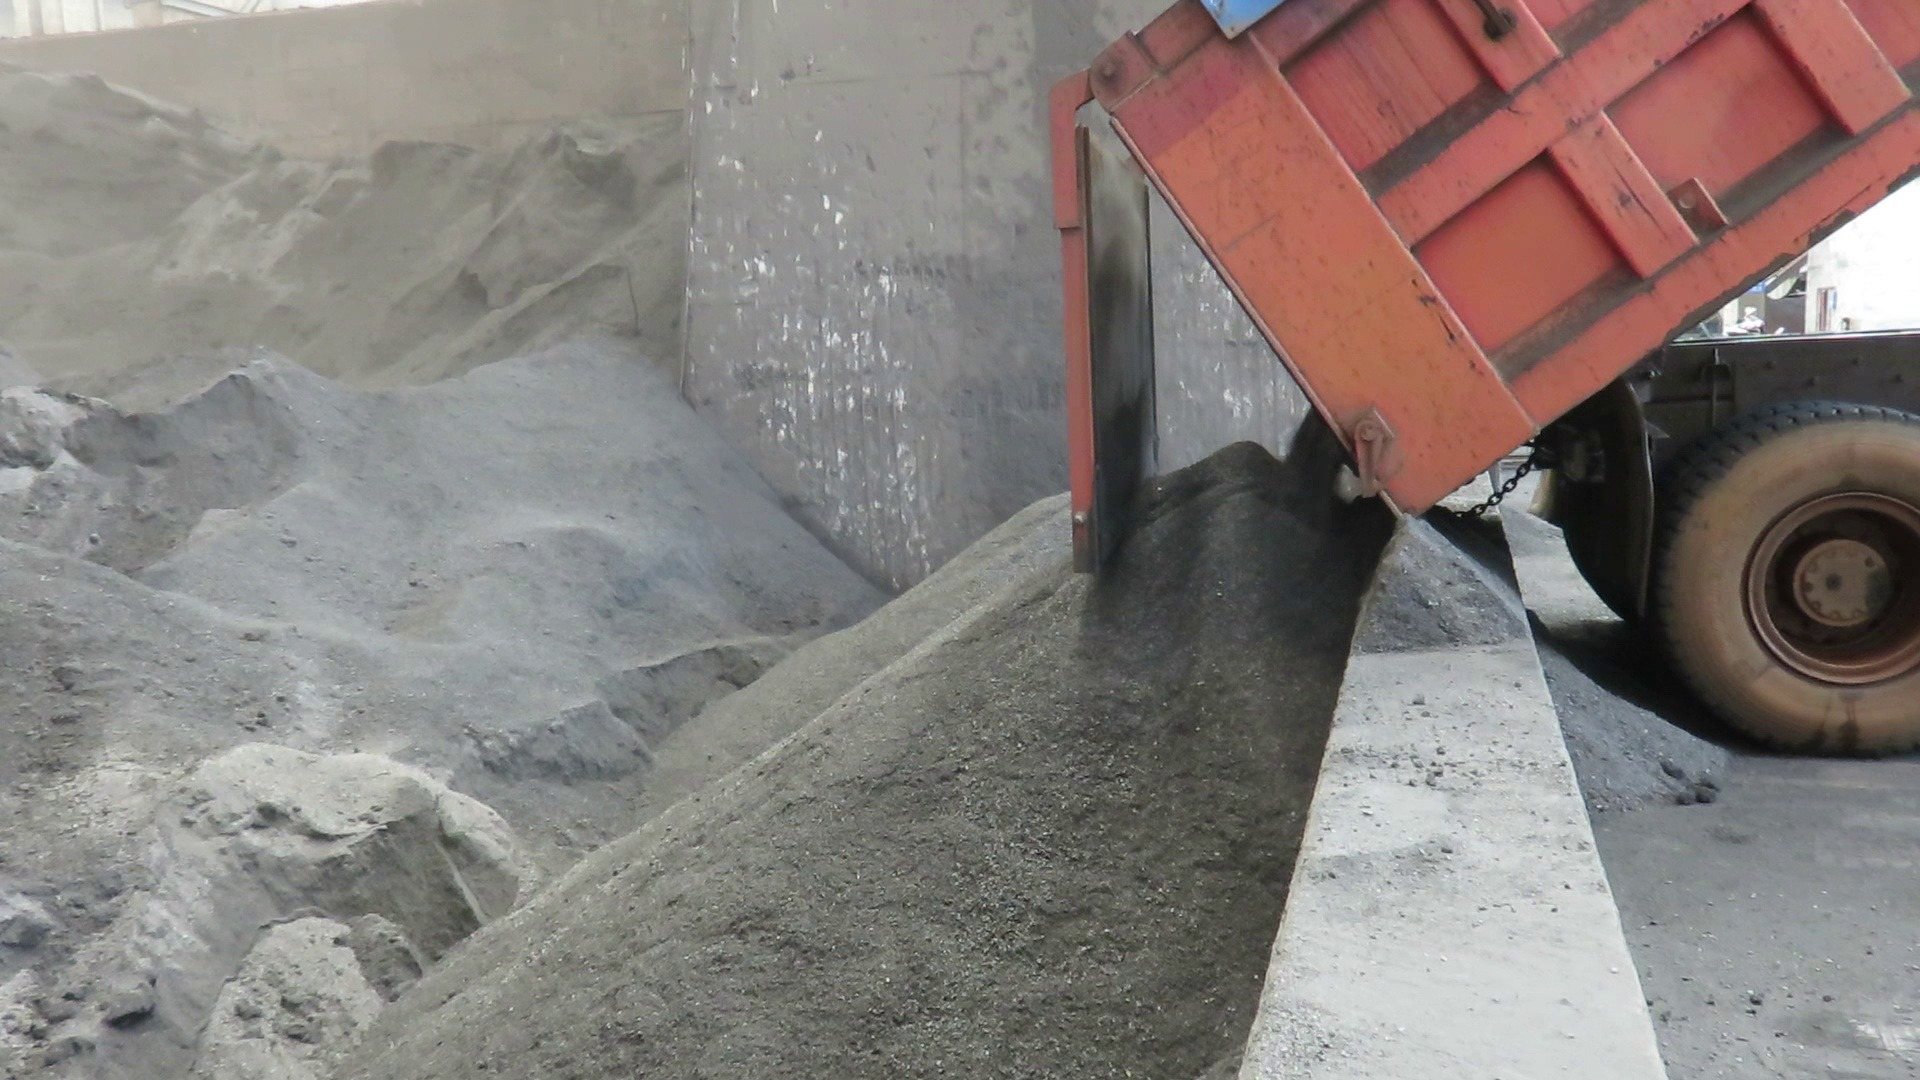dust: (15, 33, 1017, 725)
truck: (1034, 0, 1920, 766)
